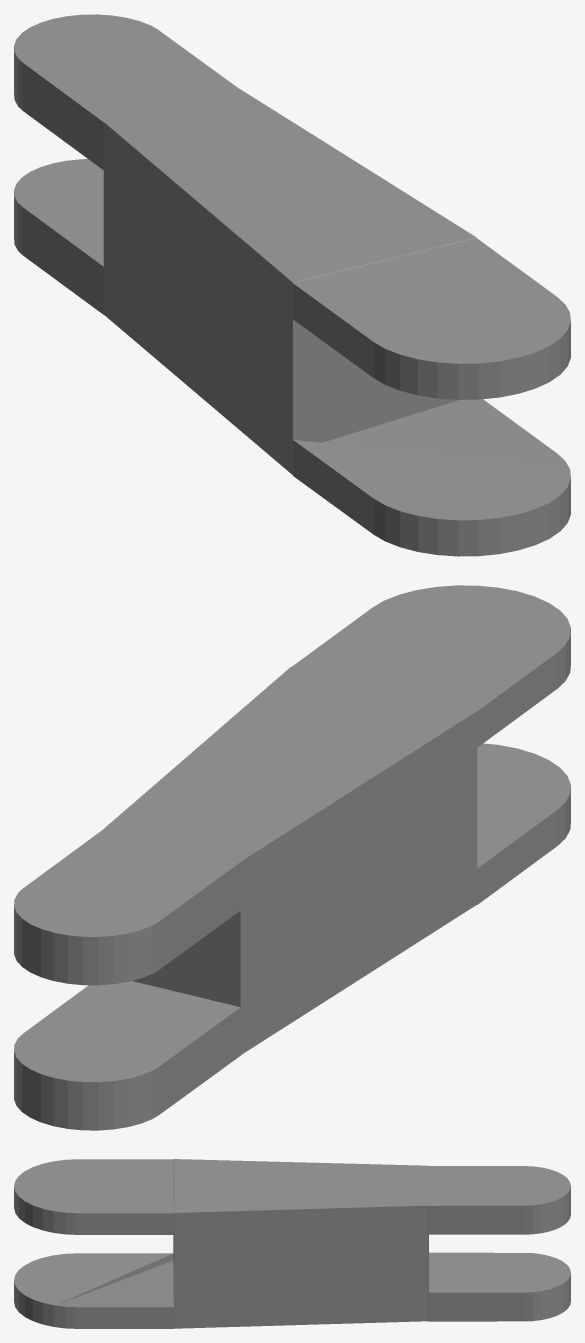
The model's file is finger_0.obj.
3 renders of one model, top to bottom at view 1: azimuth 30°, elevation 25°; view 2: azimuth 150°, elevation 25°; view 3: azimuth 270°, elevation 25°, orthographic. The views are drawn at different scales.
Parts seen in each view (by area): view 1: Left_Finger_0; view 2: Left_Finger_0; view 3: Left_Finger_0.
Boxes of the visible parts, left/top/right/bottom form: Left_Finger_0: left=14, top=14, right=570, bottom=556; Left_Finger_0: left=14, top=585, right=570, bottom=1130; Left_Finger_0: left=14, top=1159, right=570, bottom=1328.
Bounding box in the file's own units: 0.0314 × 0.0314 × 0.1367.
Materials: 1 (1 with a texture image).
